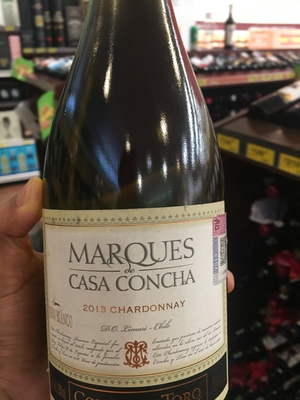marques de casa concha chardonnay: (41, 9, 236, 393)
